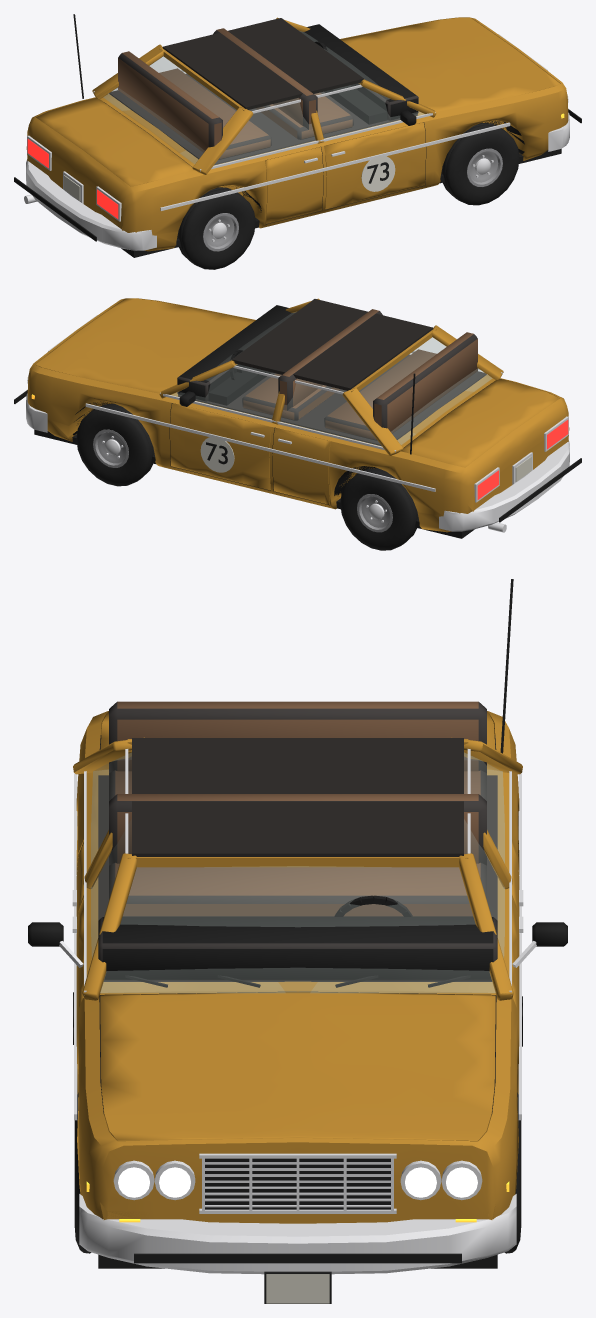
The model's file is car_sedan.glb.
The picture shows the model from 3 angles, top to bottom: view 1: azimuth 30°, elevation 25°; view 2: azimuth 150°, elevation 25°; view 3: azimuth 270°, elevation 25°; orthographic projection. The views are drawn at different scales.
Visible parts, largest first — view 1: body, interior, hood, glass, roof, door_R, trunk, wheel_RR, wheel_FR, pillars, bumper_R, chrome_details (+7 smaller); view 2: body, interior, hood, glass, roof, door_L, trunk, wheel_FL, wheel_RL, pillars, bumper_R, chrome_details (+7 smaller); view 3: interior, hood, body, roof, glass, bumper_F, chrome_details, pillars, black_details, bumper_F_rubber, headlamps, window_trim (+3 smaller).
Boxes of the visible parts, x1,y1,x2,y2 form: body: [26, 17, 568, 251]; interior: [109, 24, 418, 165]; hood: [341, 17, 560, 112]; glass: [103, 31, 424, 165]; roof: [162, 18, 363, 109]; door_R: [265, 122, 425, 223]; trunk: [36, 98, 194, 186]; wheel_RR: [177, 187, 255, 269]; wheel_FR: [441, 123, 519, 205]; pillars: [92, 17, 436, 174]; bumper_R: [26, 159, 156, 250]; chrome_details: [24, 34, 568, 221]; body: [27, 298, 569, 532]; interior: [177, 305, 486, 446]; hood: [35, 298, 255, 393]; glass: [172, 312, 492, 446]; roof: [232, 299, 433, 390]; door_L: [170, 403, 330, 504]; trunk: [401, 379, 559, 467]; wheel_FL: [76, 403, 154, 486]; wheel_RL: [340, 468, 418, 550]; pillars: [159, 298, 503, 455]; bumper_R: [439, 440, 569, 531]; chrome_details: [27, 315, 568, 532]; interior: [98, 701, 497, 981]; hood: [100, 991, 495, 1141]; body: [76, 711, 519, 1223]; roof: [132, 738, 463, 856]; glass: [91, 752, 504, 992]; bumper_F: [79, 1194, 516, 1274]; chrome_details: [59, 773, 536, 1213]; pillars: [73, 737, 522, 1000]; black_details: [28, 579, 567, 1303]; bumper_F_rubber: [134, 1253, 461, 1263]; headlamps: [118, 1167, 477, 1197]; window_trim: [84, 749, 511, 995].
Size of the model in its own units: 5.36 by 1.95 by 2.57.
